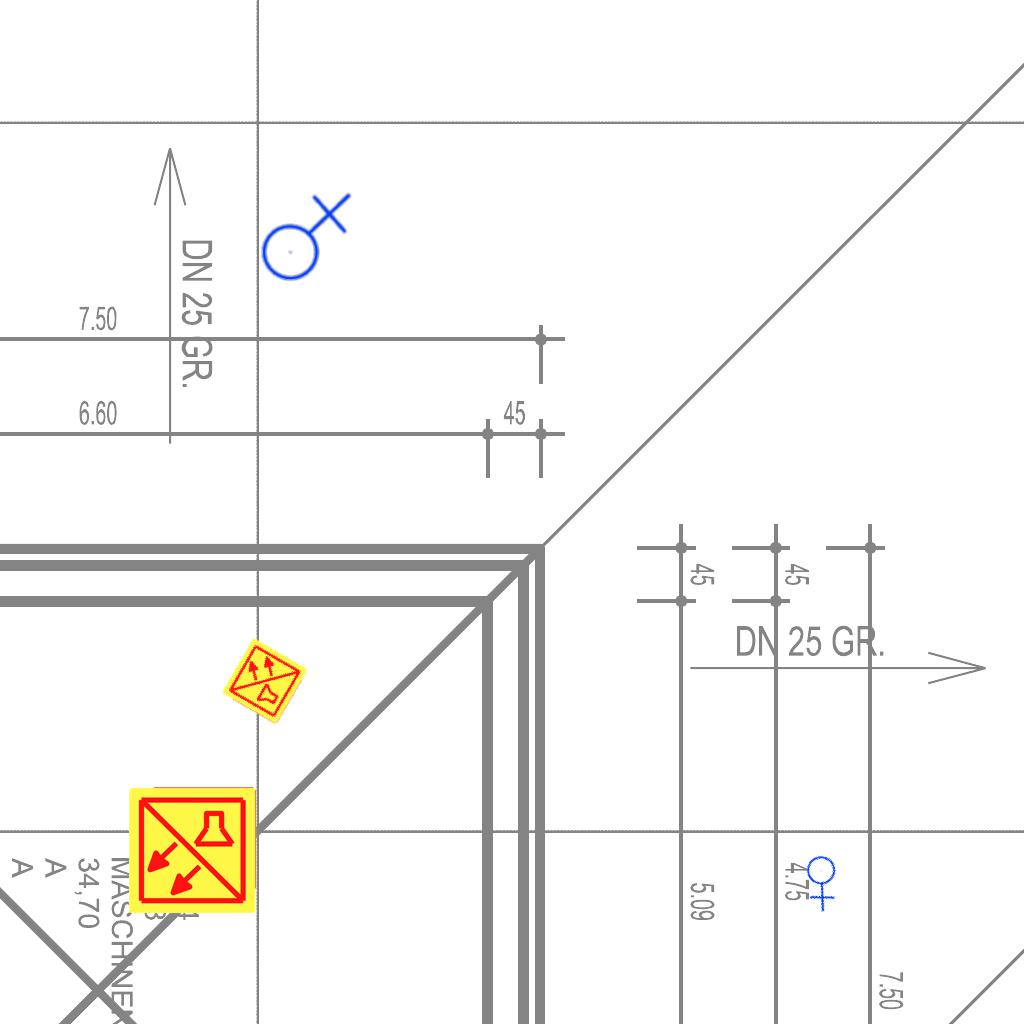Elektroanschluss_allgemein_230V_Geraeteanschlussdose_230V: (253, 188, 352, 282), (789, 846, 858, 915)
OKW_Multisensormelder_(Kombination_optischer_Rauch-Kahlenmonoxid_Waerme-Melder): (126, 784, 258, 916), (219, 635, 311, 727)
